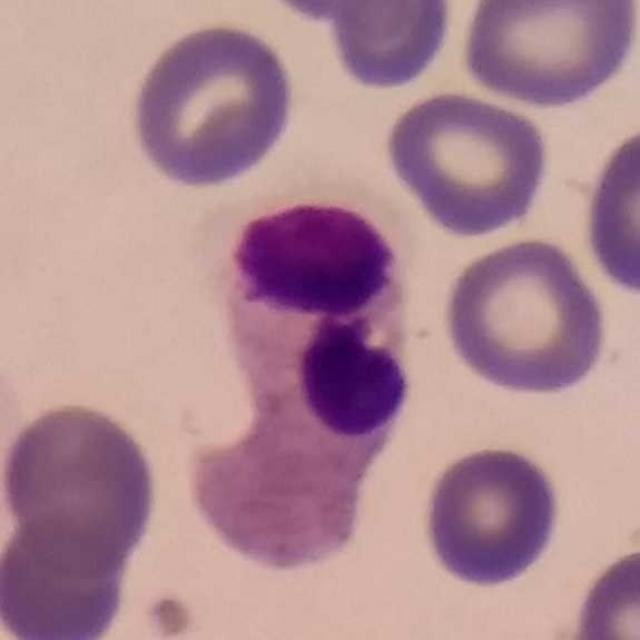Neutrophil: (189, 198, 408, 567)
Platelets: (140, 590, 200, 640)
RBC: (124, 16, 300, 192), (0, 397, 163, 576), (439, 233, 611, 400), (381, 87, 553, 239), (418, 442, 566, 592), (456, 0, 639, 111), (1, 505, 137, 640), (323, 0, 458, 93), (579, 117, 640, 303), (566, 542, 640, 640), (246, 0, 422, 27)
